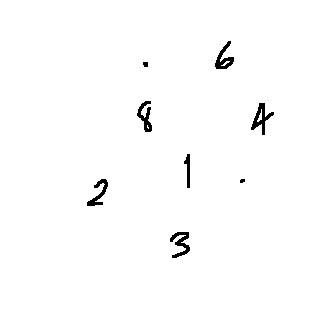.: (137, 54, 155, 70), (234, 175, 246, 193)
1: (175, 151, 201, 195)
2: (77, 173, 118, 210)
3: (163, 229, 201, 263)
4: (241, 102, 281, 139)
6: (204, 25, 245, 78)
8: (131, 92, 162, 149)
